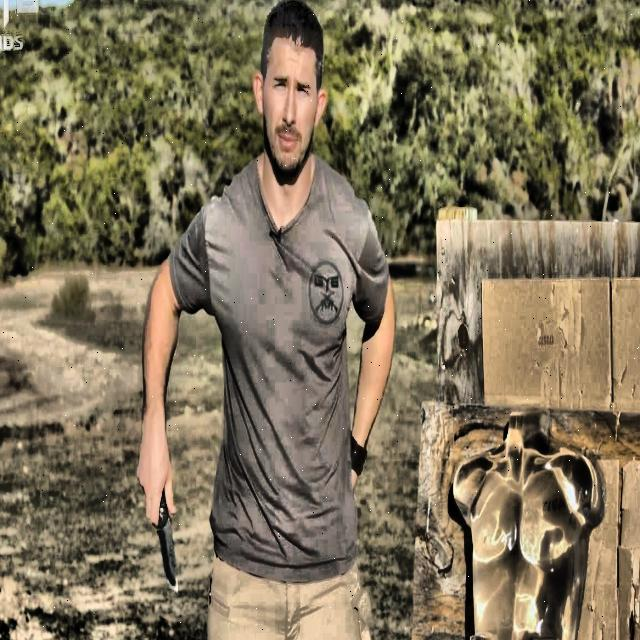knife: (159, 496, 177, 596)
